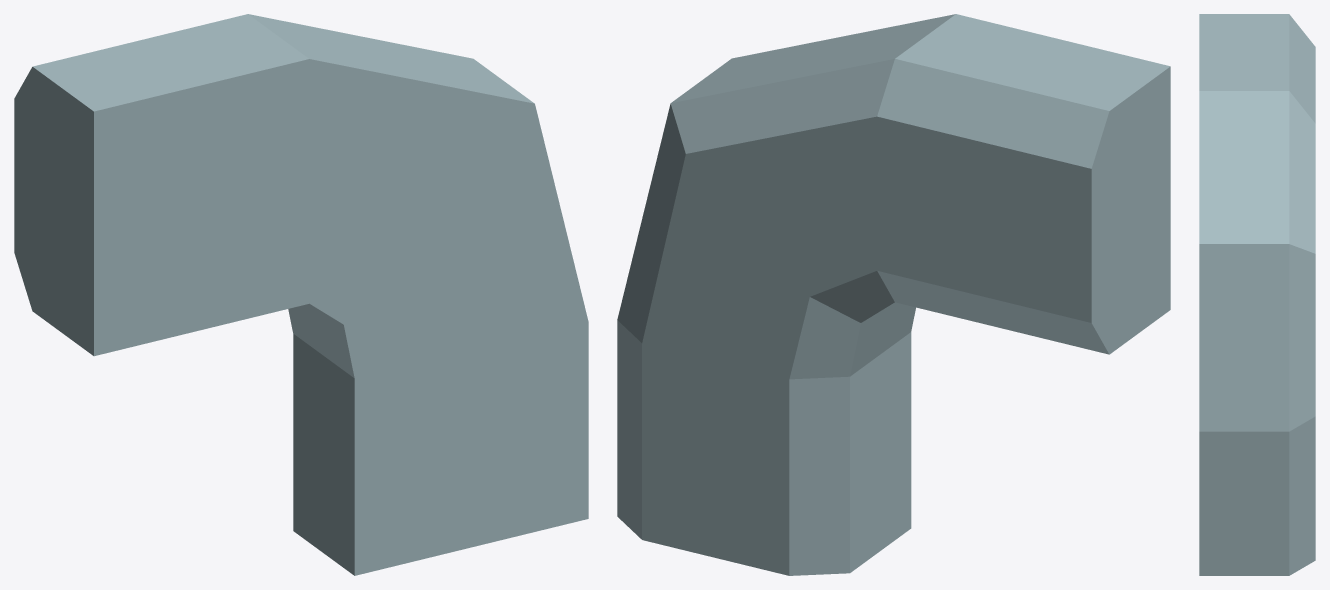
Rendered from de_ice_4.fbx.
The picture shows the model from 3 angles, left to right: view 1: azimuth 30°, elevation 25°; view 2: azimuth 150°, elevation 25°; view 3: azimuth 270°, elevation 25°; orthographic projection. The views are drawn at different scales.
Visible parts, largest first — view 1: Cube.322; view 2: Cube.322; view 3: Cube.322.
Part boxes in pixels (x1,y1,x2,y2): Cube.322: [14, 14, 588, 575]; Cube.322: [617, 14, 1170, 575]; Cube.322: [1199, 14, 1315, 575].
Bounding box in the file's own units: 372 × 379 × 103.
